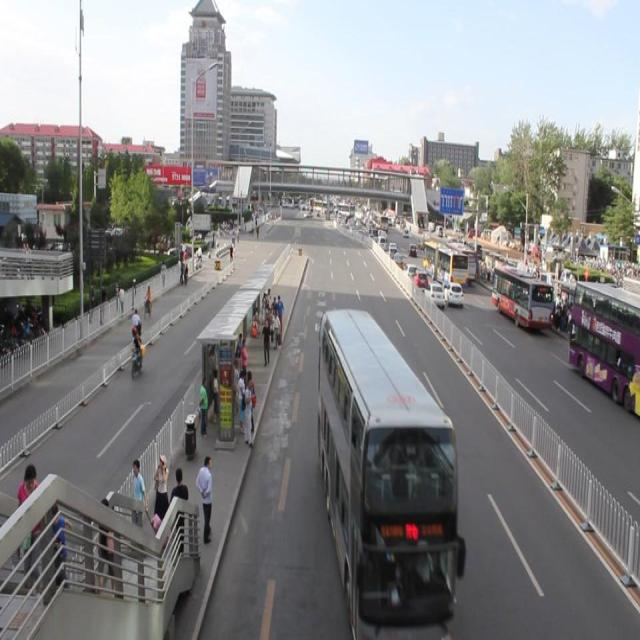van: (314, 309, 469, 640)
